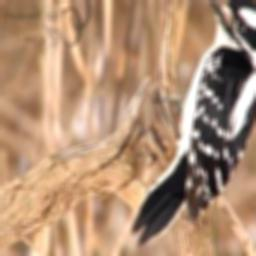Woodpecker: (129, 0, 256, 253)
